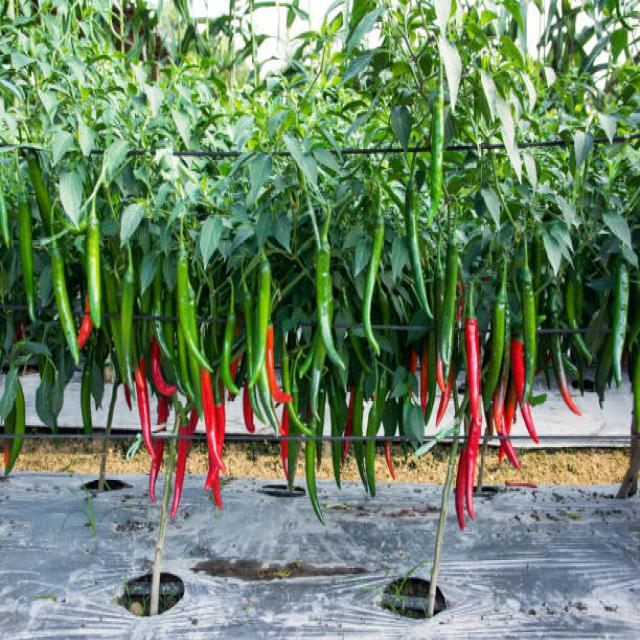Half-Ripe: (549, 299, 585, 420)
Ripe: (202, 370, 227, 511), (133, 366, 160, 461), (168, 423, 193, 524), (463, 413, 483, 528), (452, 432, 467, 541), (152, 336, 176, 400), (468, 318, 479, 414), (150, 439, 164, 500)
Unripe: (85, 199, 117, 373), (178, 256, 218, 378), (407, 179, 438, 323), (48, 242, 83, 365), (245, 257, 272, 392), (316, 213, 338, 364), (516, 279, 540, 414), (363, 191, 383, 353), (116, 271, 138, 406), (442, 237, 462, 375), (18, 209, 40, 334), (424, 83, 443, 224), (483, 306, 505, 411), (612, 264, 628, 384), (221, 282, 238, 394), (306, 439, 323, 524), (83, 342, 93, 433)
